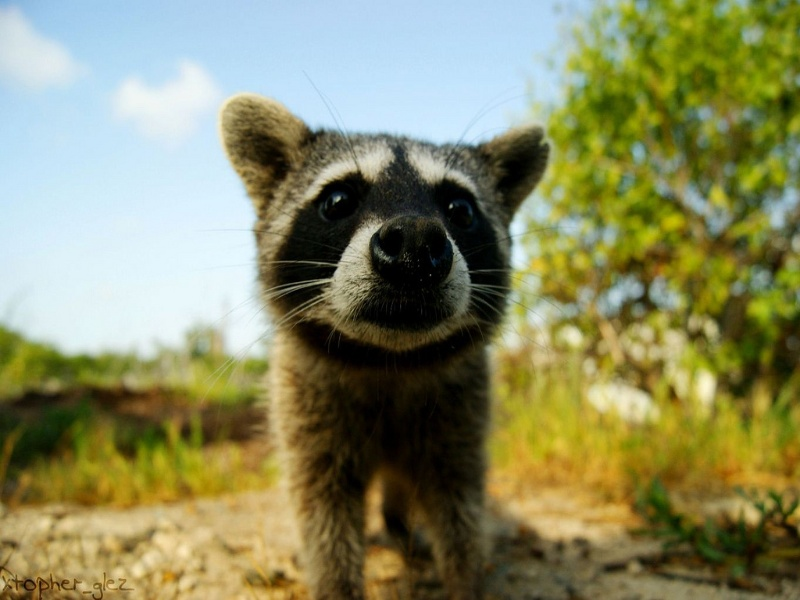raccoon: (212, 94, 559, 592)
